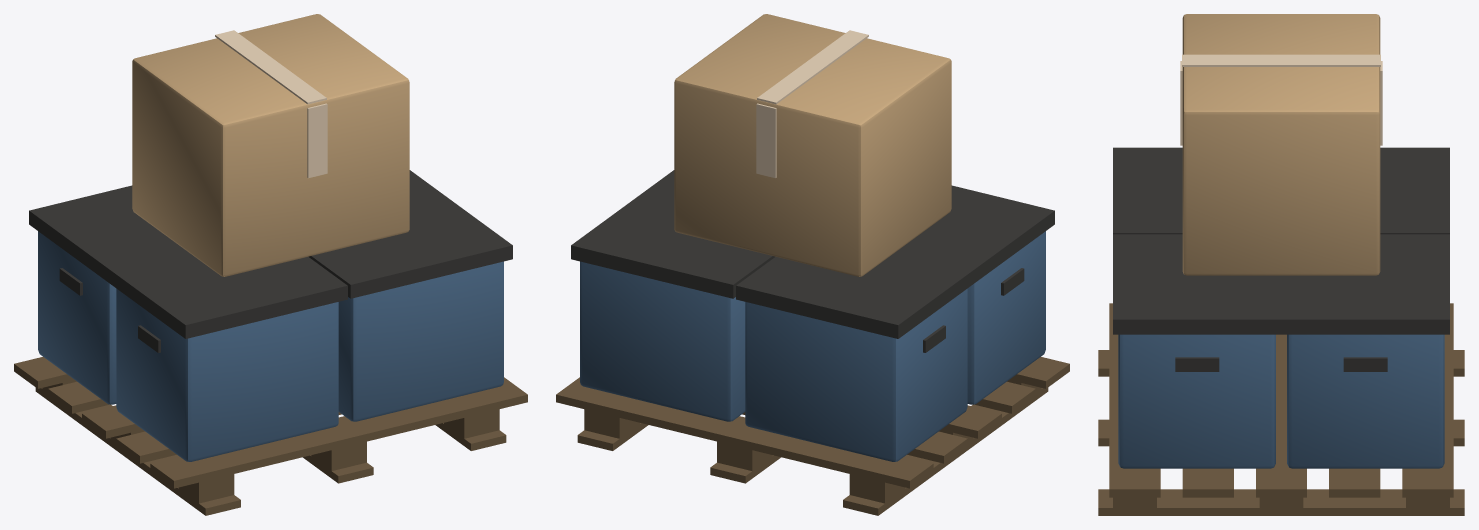
Rendered from cargo_cluster_b.glb.
3 views of the same model, side by side, from view 1: azimuth 30°, elevation 25°; view 2: azimuth 150°, elevation 25°; view 3: azimuth 270°, elevation 25° (orthographic). The views are drawn at different scales.
Parts seen in each view (by area): view 1: TopBox, C1, C2, C1_Rim, C2_Rim, C3, PalletB_Deck_-0.4, C3_Rim, TopBox_Tape_Top, PalletB_Runner_-0.45, TopBox_Tape_SideB, PalletB_Deck_0.0 (+8 smaller); view 2: TopBox, C3, C4, C3_Rim, C4_Rim, C1, PalletB_Deck_0.4, C1_Rim, TopBox_Tape_Top, PalletB_Runner_-0.45, TopBox_Tape_SideF, PalletB_Deck_0.0 (+8 smaller); view 3: TopBox, C2, C4, C2_Rim, C4_Rim, PalletB_Runner_0.45, C1_Rim, C3_Rim, PalletB_Deck_0.4, PalletB_Deck_-0.4, PalletB_Deck_0.0, TopBox_Tape_Top (+9 smaller).
Part boxes in pixels (left/top/right/bottom): TopBox: left=132, top=14, right=409, bottom=276; C1: left=116, top=288, right=338, bottom=461; C2: left=338, top=261, right=503, bottom=421; C1_Rim: left=107, top=249, right=347, bottom=338; C2_Rim: left=308, top=188, right=512, bottom=298; C3: left=38, top=231, right=116, bottom=404; PalletB_Deck_-0.4: left=150, top=377, right=527, bottom=488; C3_Rim: left=29, top=185, right=183, bottom=281; TopBox_Tape_Top: left=215, top=30, right=326, bottom=104; PalletB_Runner_-0.45: left=35, top=387, right=240, bottom=515; TopBox_Tape_SideB: left=307, top=103, right=327, bottom=178; PalletB_Deck_0.0: left=82, top=405, right=142, bottom=438; TopBox: left=674, top=14, right=951, bottom=276; C3: left=745, top=288, right=967, bottom=461; C4: left=580, top=261, right=745, bottom=421; C3_Rim: left=736, top=249, right=976, bottom=338; C4_Rim: left=571, top=188, right=775, bottom=298; C1: left=967, top=231, right=1045, bottom=404; PalletB_Deck_0.4: left=556, top=377, right=933, bottom=488; C1_Rim: left=900, top=185, right=1054, bottom=281; TopBox_Tape_Top: left=757, top=30, right=868, bottom=104; PalletB_Runner_-0.45: left=843, top=387, right=1048, bottom=515; TopBox_Tape_SideF: left=756, top=103, right=776, bottom=178; PalletB_Deck_0.0: left=941, top=405, right=1001, bottom=438; TopBox: left=1182, top=14, right=1380, bottom=275; C2: left=1118, top=334, right=1275, bottom=468; C4: left=1287, top=334, right=1444, bottom=468; C2_Rim: left=1113, top=234, right=1281, bottom=334; C4_Rim: left=1281, top=234, right=1449, bottom=334; PalletB_Runner_0.45: left=1098, top=489, right=1464, bottom=515; C1_Rim: left=1113, top=147, right=1182, bottom=234; C3_Rim: left=1380, top=147, right=1449, bottom=234; PalletB_Deck_0.4: left=1402, top=303, right=1453, bottom=497; PalletB_Deck_-0.4: left=1109, top=303, right=1160, bottom=497; PalletB_Deck_0.0: left=1256, top=334, right=1306, bottom=497; TopBox_Tape_Top: left=1182, top=54, right=1380, bottom=66.
Size of the model in its own units: 1.2 by 1.14 by 1.
